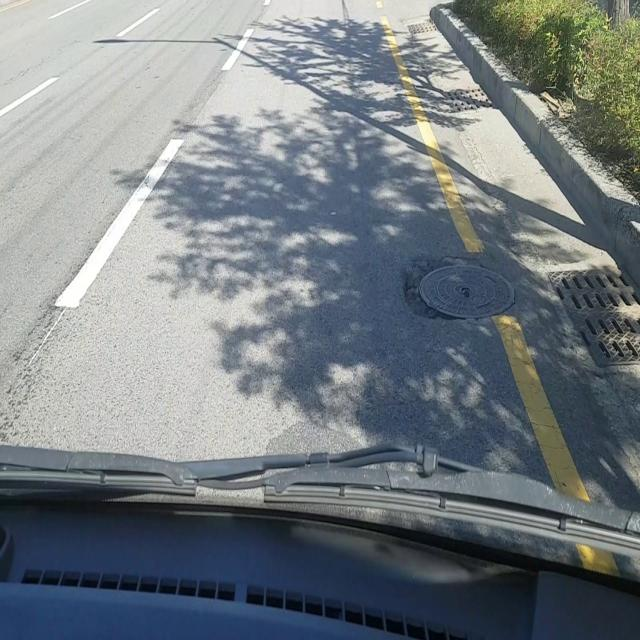Pothole: (400, 254, 518, 324)
